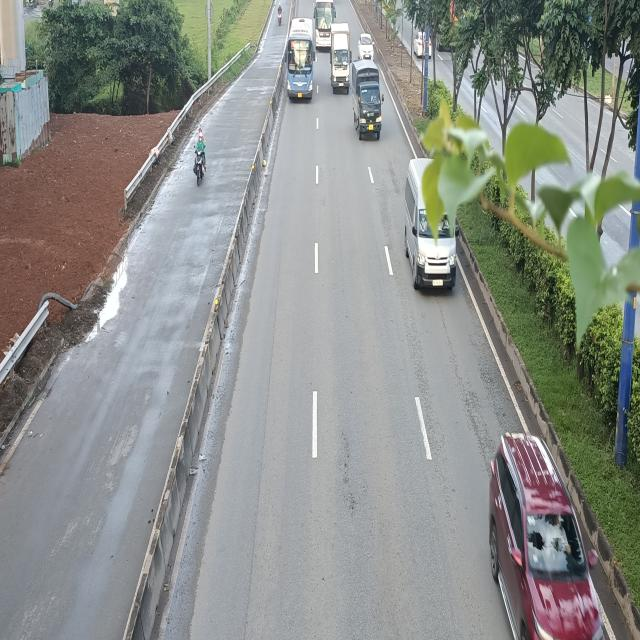car: (487, 432, 616, 640), (358, 33, 374, 60)
coach: (284, 19, 314, 104), (311, 0, 334, 50)
truck: (352, 63, 383, 142), (332, 26, 354, 96)
van: (405, 154, 458, 294)
